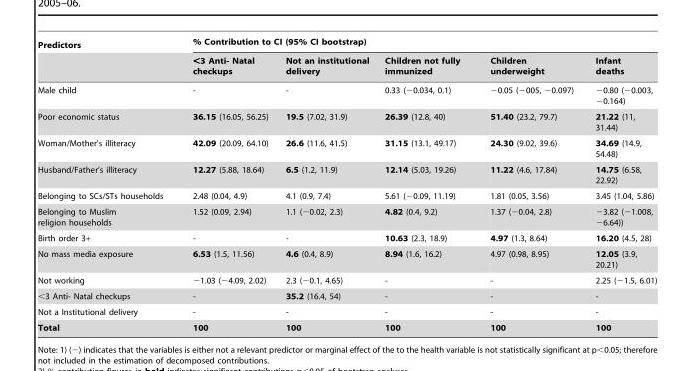table: (37, 37, 656, 331)
table column: (37, 37, 177, 331), (474, 37, 583, 331), (276, 37, 376, 331), (177, 37, 276, 331), (376, 37, 474, 331), (583, 37, 656, 331)
table column header: (37, 37, 656, 80)
table row: (37, 52, 656, 80), (37, 80, 656, 108), (37, 108, 656, 135), (37, 135, 656, 161), (37, 161, 656, 187), (37, 203, 656, 229), (37, 246, 656, 272), (37, 229, 656, 246), (37, 187, 656, 203), (37, 272, 656, 288), (37, 303, 656, 319), (37, 37, 656, 52), (37, 288, 656, 303), (37, 319, 656, 331)
table spanning cell: (177, 37, 656, 52), (37, 37, 177, 80)
